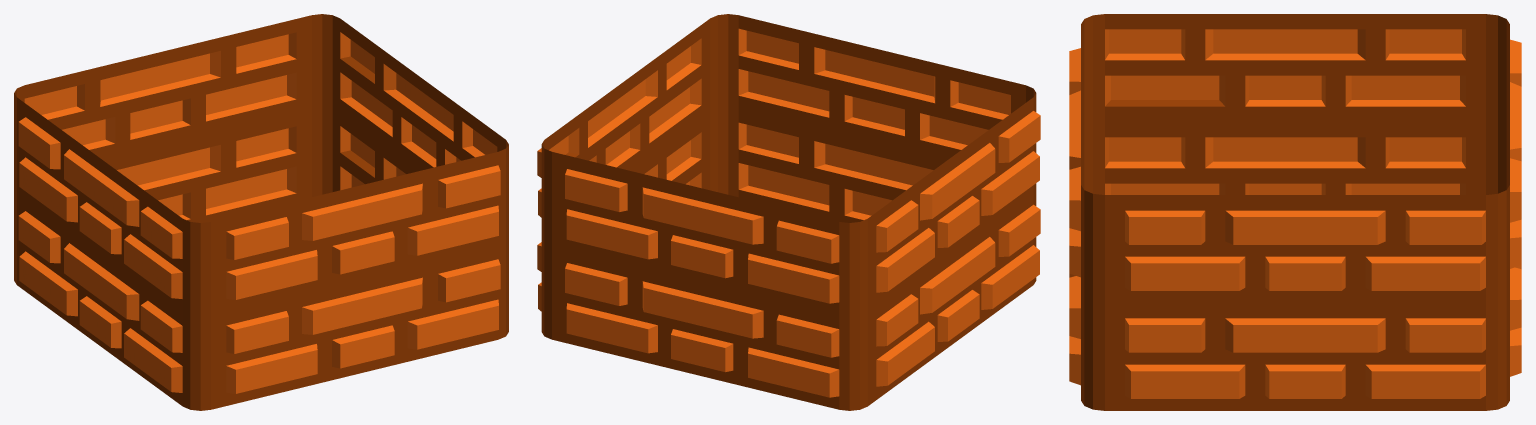
The model's file is Sides.fbx.
3 views of the same model, side by side, from view 1: azimuth 30°, elevation 25°; view 2: azimuth 150°, elevation 25°; view 3: azimuth 270°, elevation 25° (orthographic). The views are drawn at different scales.
Visible parts, largest first — view 1: Sides; view 2: Sides; view 3: Sides.
Part boxes in pixels (x1=…): Sides: x1=14, y1=14, x2=508, y2=410; Sides: x1=537, y1=14, x2=1040, y2=410; Sides: x1=1069, y1=14, x2=1521, y2=410.
Bounding box in the file's own units: 94.95 × 50 × 94.95.
